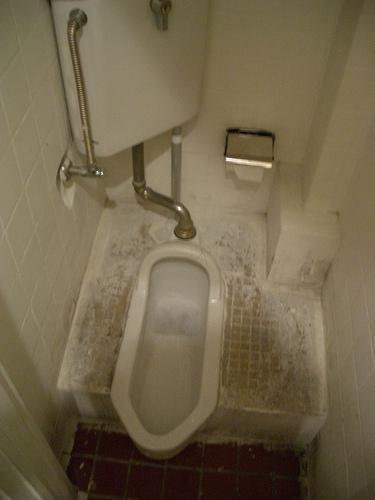Sanitario: (98, 233, 239, 467)
